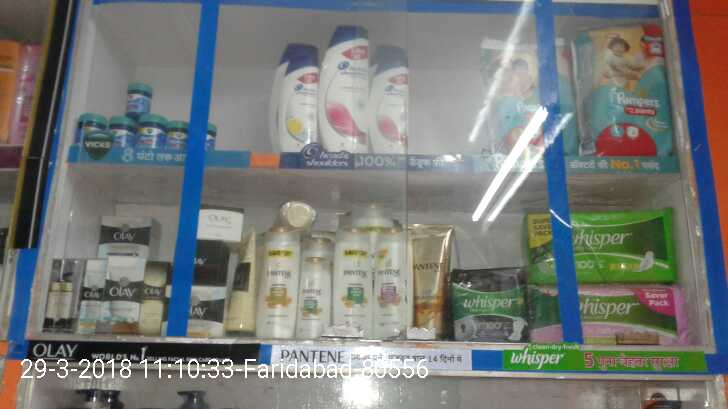vicks: (126, 82, 153, 114), (135, 118, 164, 147), (108, 116, 135, 147), (79, 116, 108, 144), (164, 118, 185, 151), (203, 126, 216, 149)
